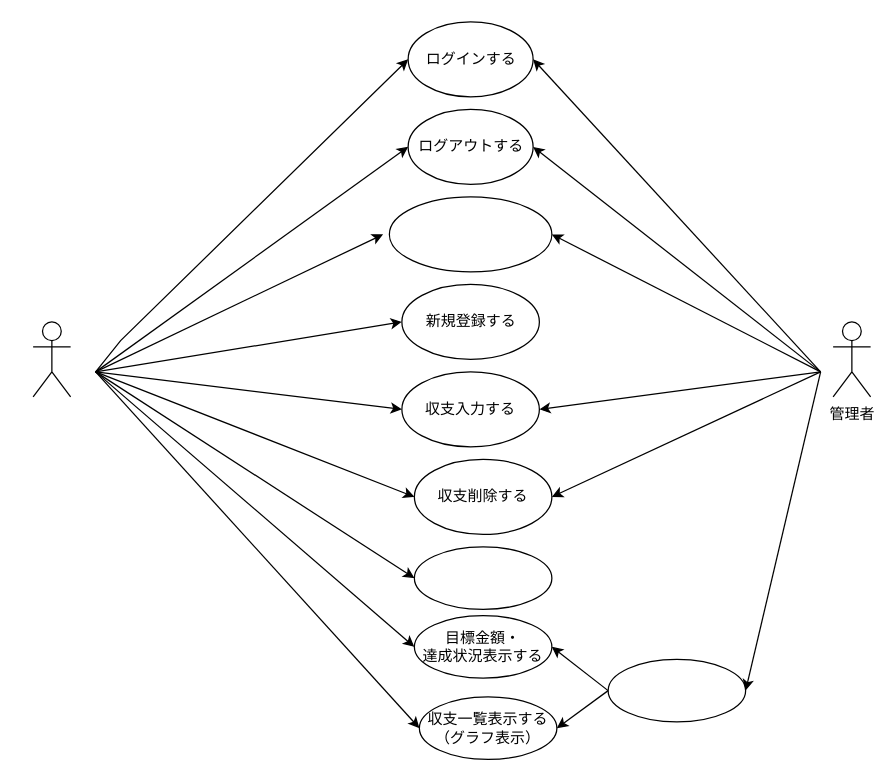
Image size: 896x781. Some labels were removed from this diagram. The shapes that lost their labels are listed below. From the top down, each one's centre as x and y in pixels, then its label:
At point 470,234: "パスワードリセットする".
At point 51,359: "ユーザー".
At point 482,577: "退会する".
At point 676,690: "ユーザー一覧表示する".
